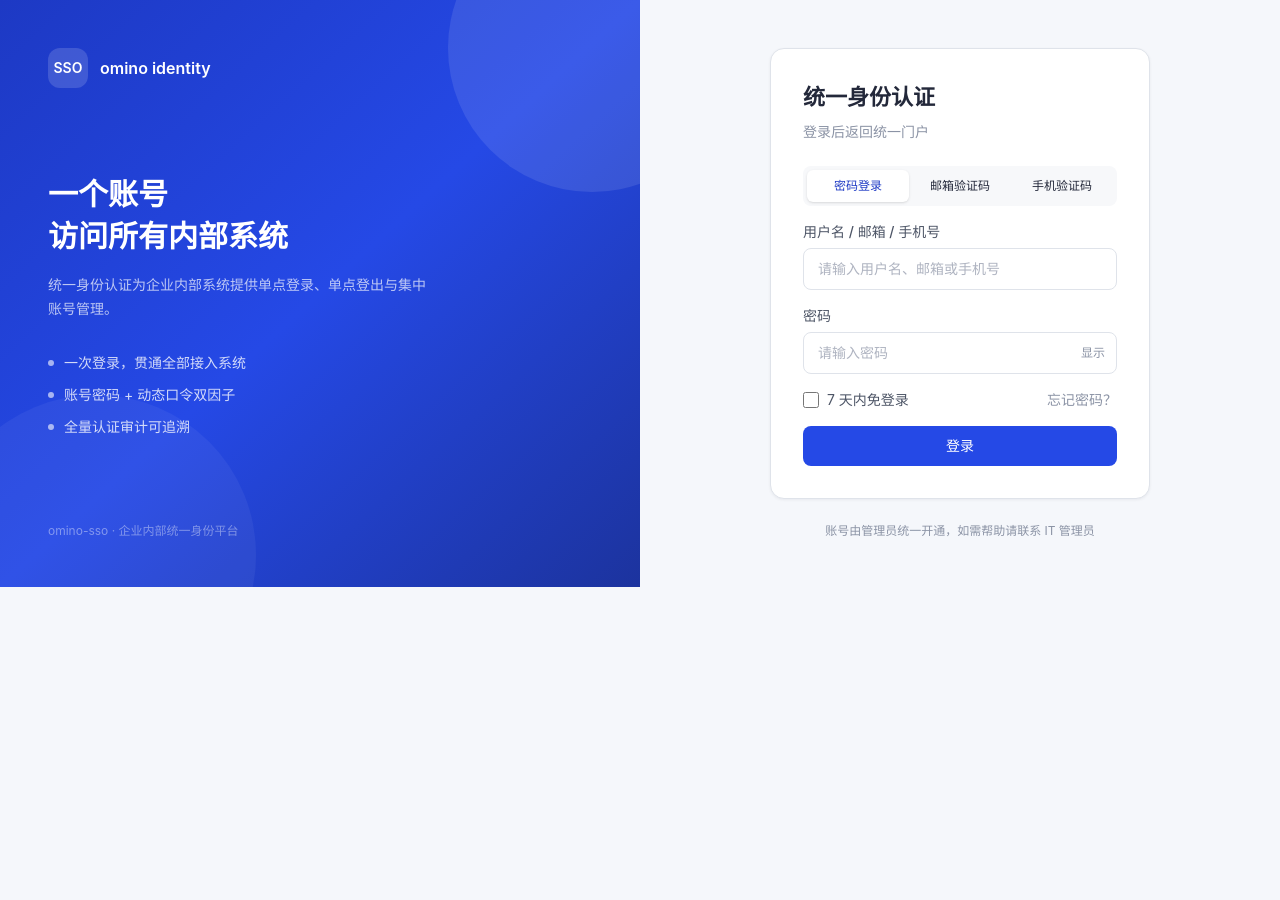
it: Login 交互细节 › 重新输入图形验证码后旧错误立即消失
Click the button "邮箱验证码" at (960, 186), box [909,170,1011,202]
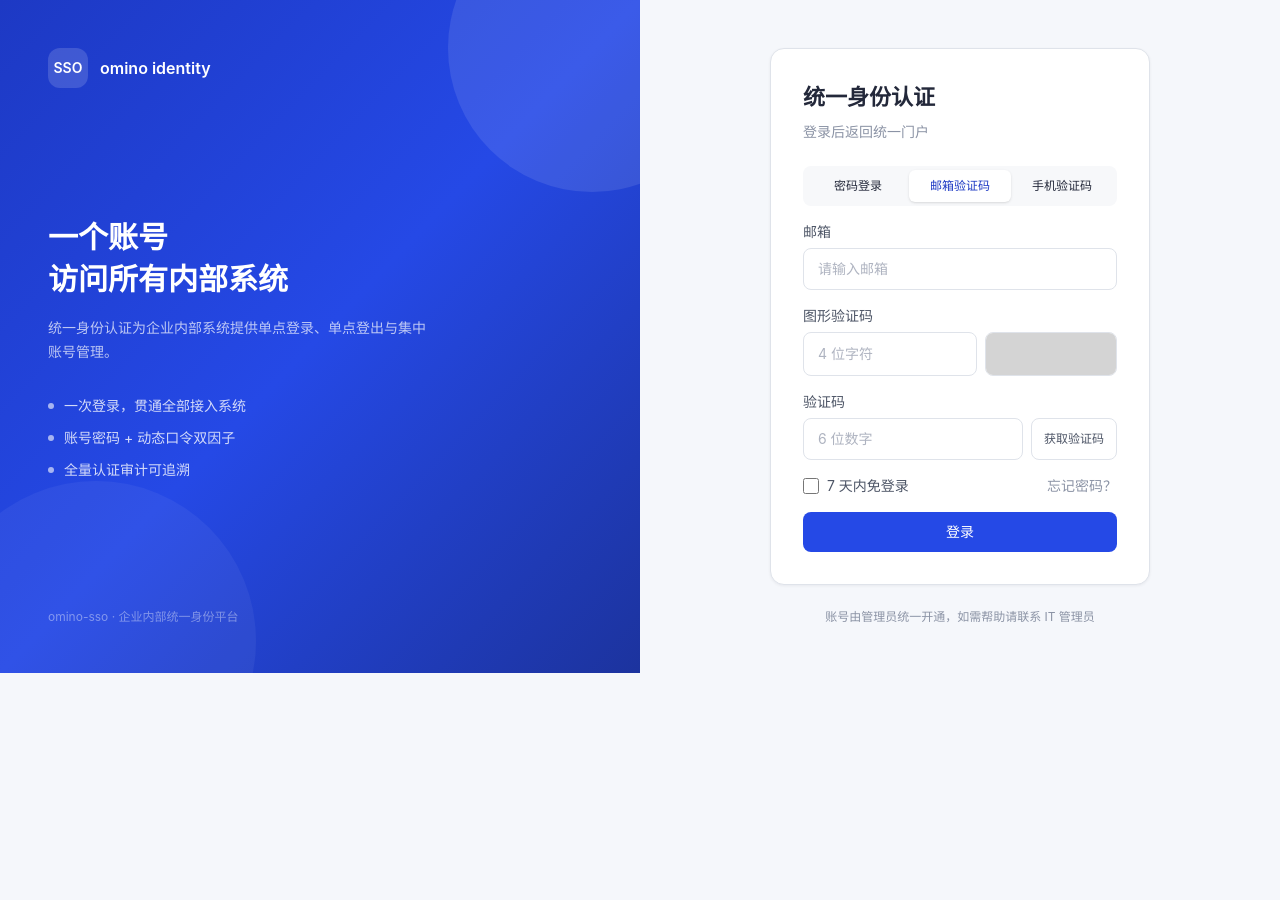
Type "alice@example.com" into the field with id "username" at (960, 269), box [803,248,1117,290]
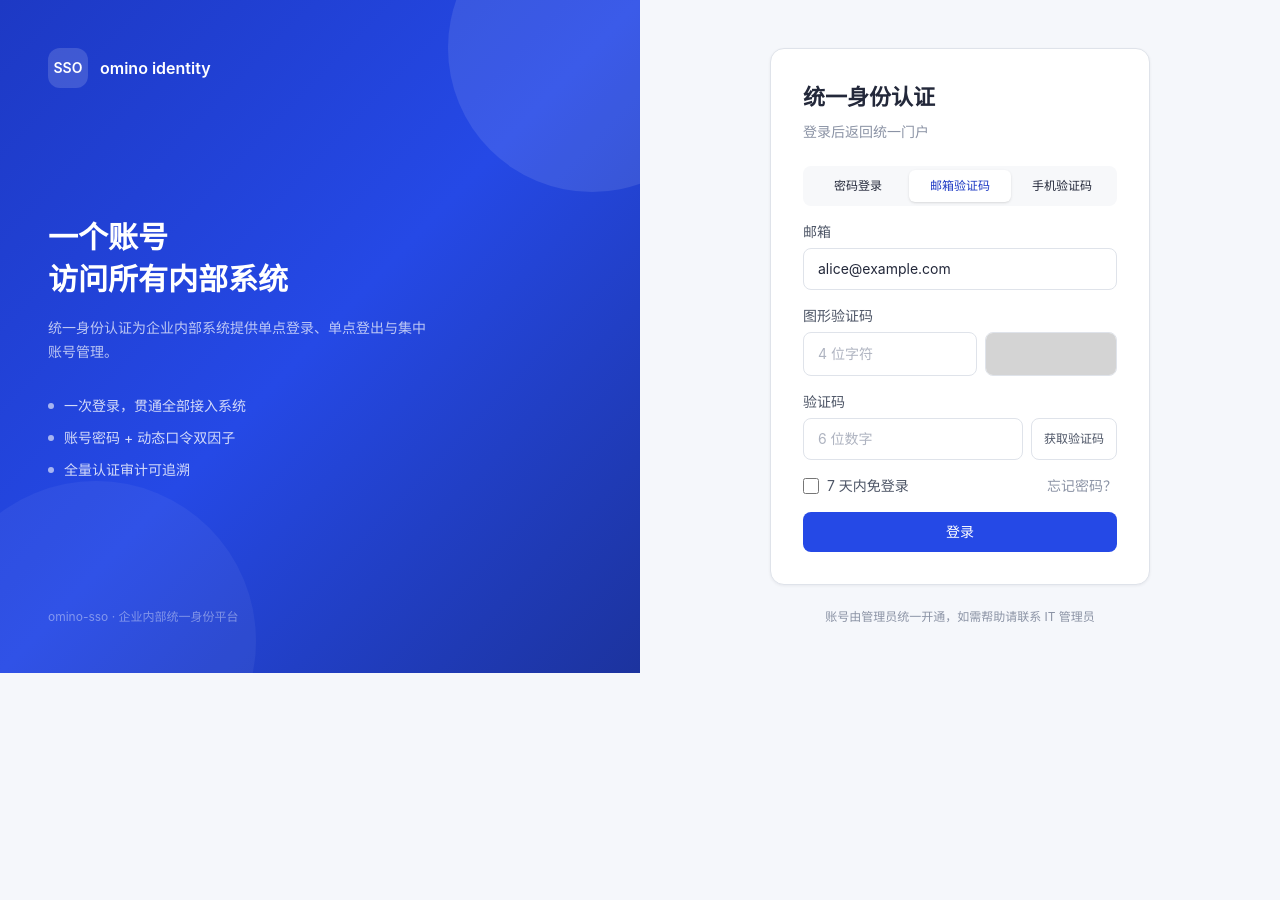
Type "zzzz" into the field with id "login-captcha" at (890, 354), box [803,332,977,376]
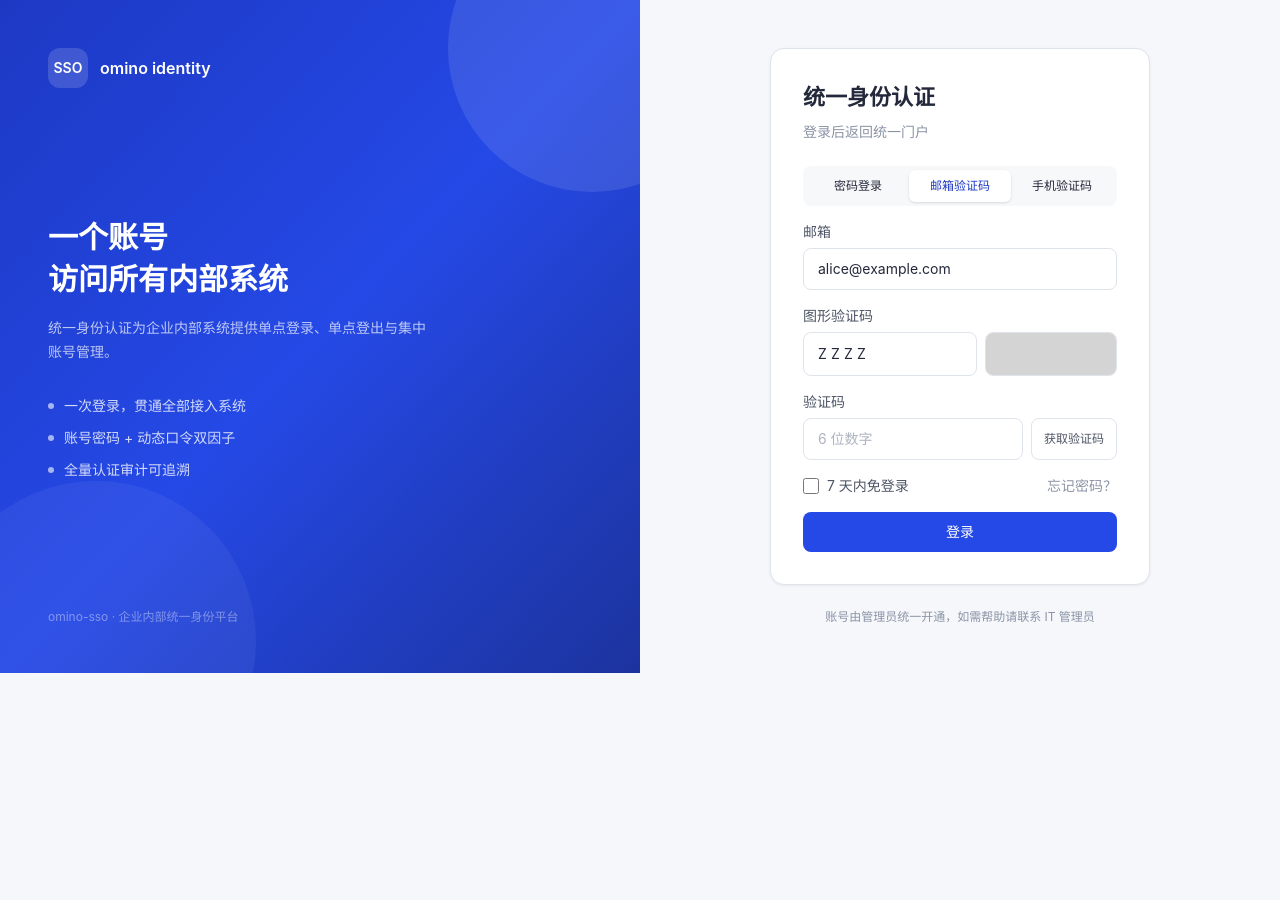
Click the button "获取验证码" at (1074, 439), box [1031,418,1117,460]
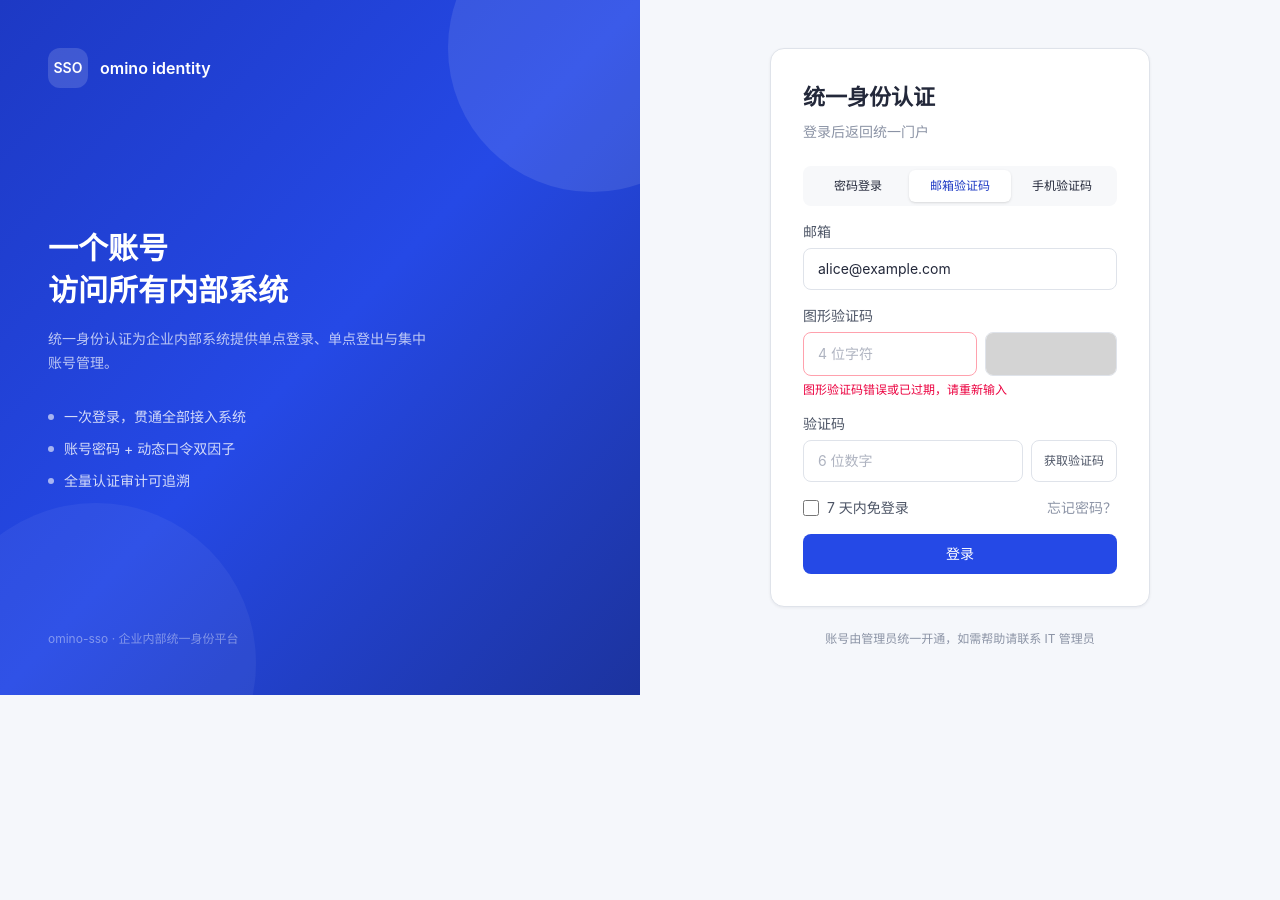
Expected: the text "图形验证码错误或已过期" is shown, [803,382,1007,397]
Type "ab12" into the field with id "login-captcha" at (890, 354), box [803,332,977,376]
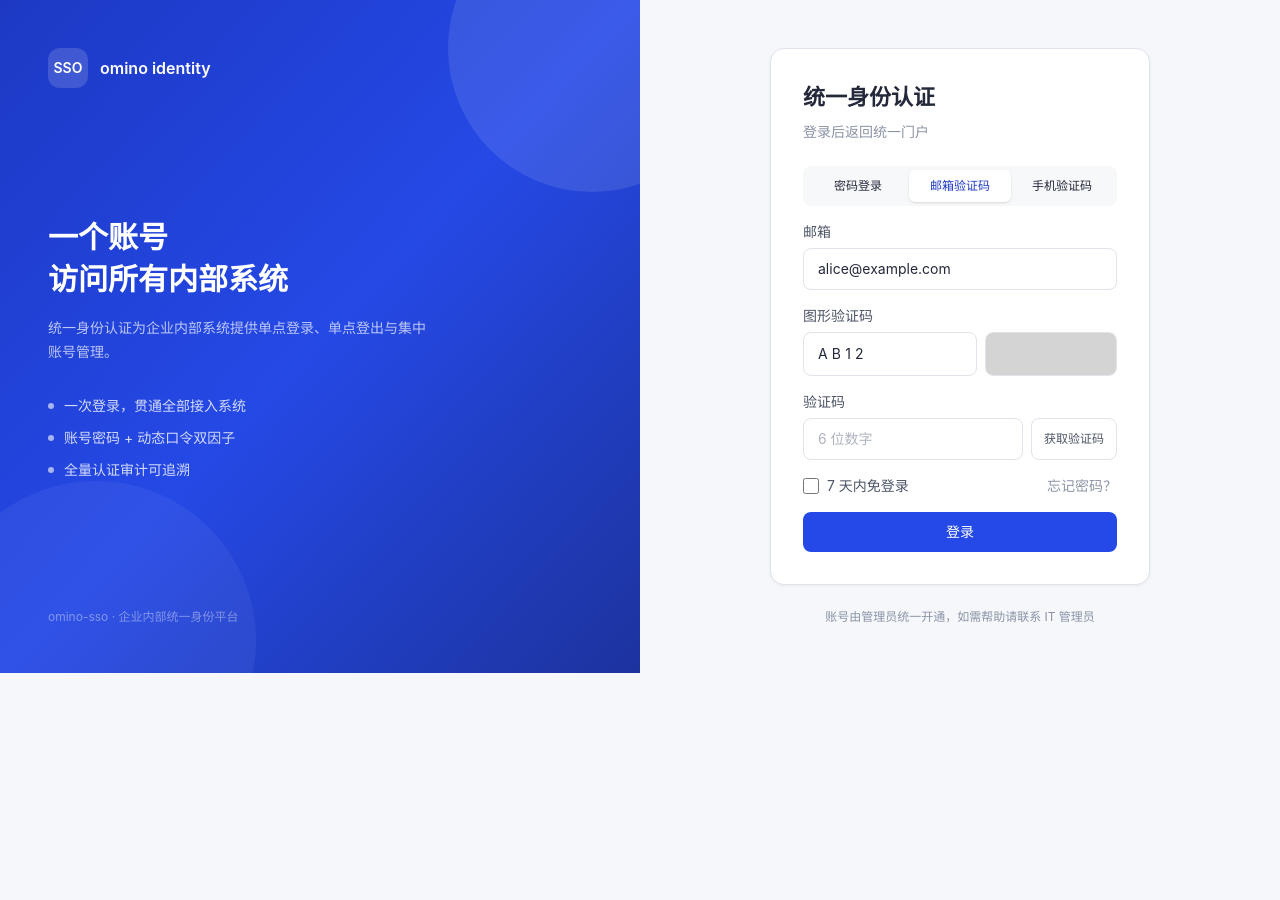
Expected: the text "图形验证码错误或已过期" is gone
